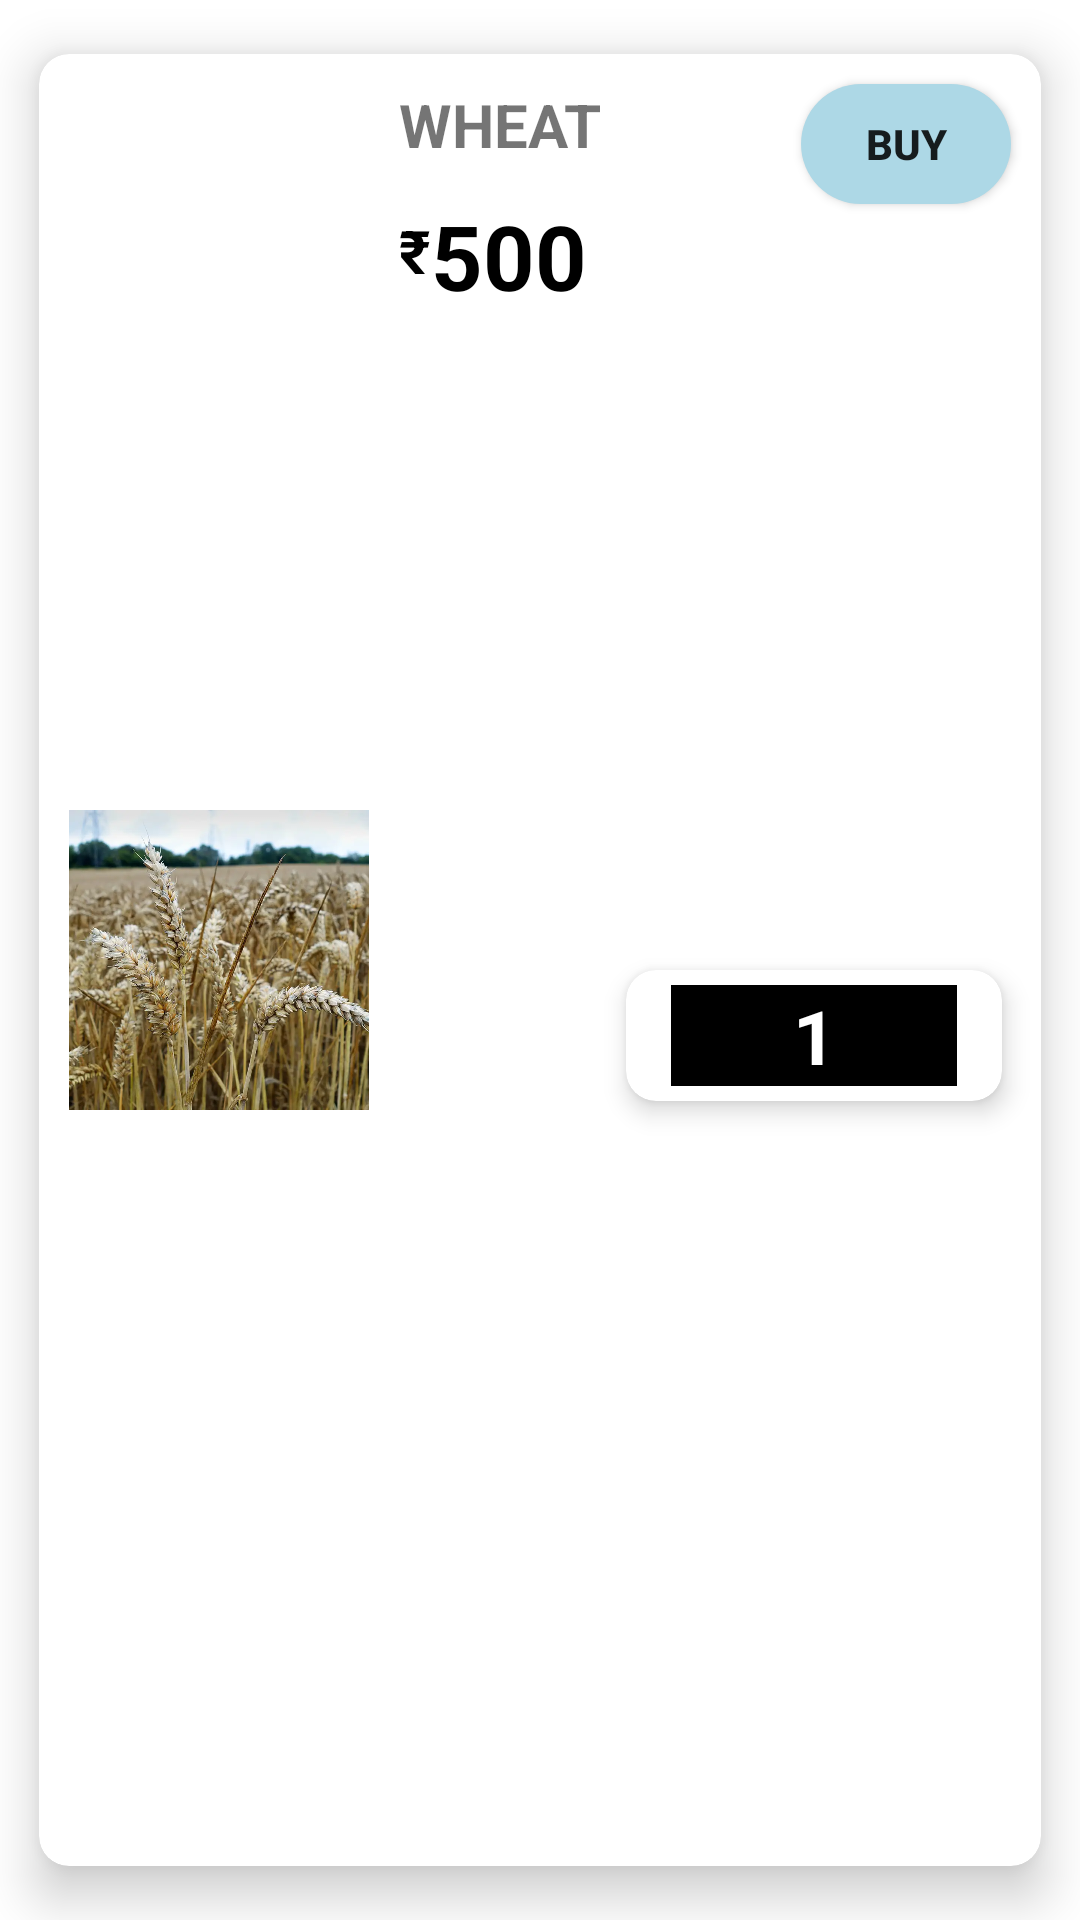

Icon bounding boxes for this 1080×1920 phone screenshot, format [x1,y1,x2,y2]:
wheat: [69,810,369,1110]
